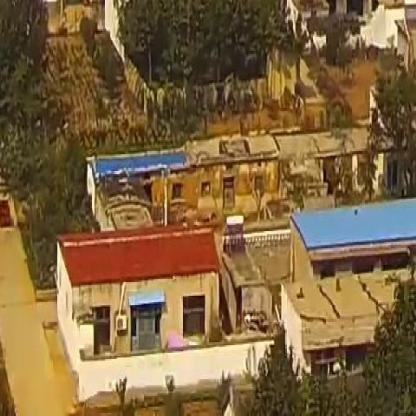other: (36, 223, 226, 281)
